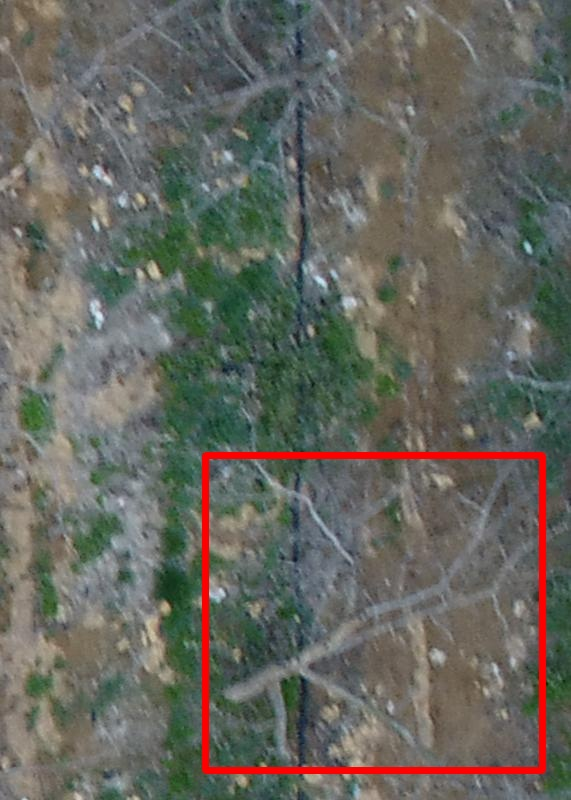apple: (205, 455, 542, 770)
